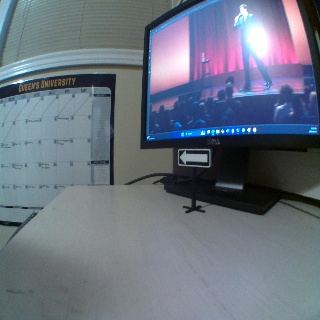sign_oneway_left: (178, 148, 210, 167)
